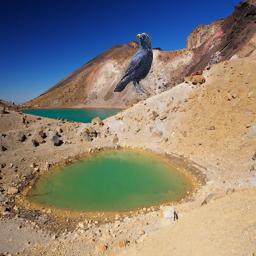Crow: (113, 33, 153, 94)
